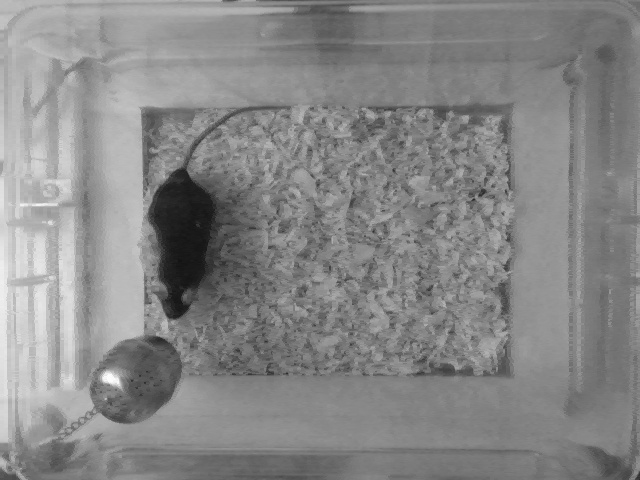mice: (146, 101, 293, 328)
